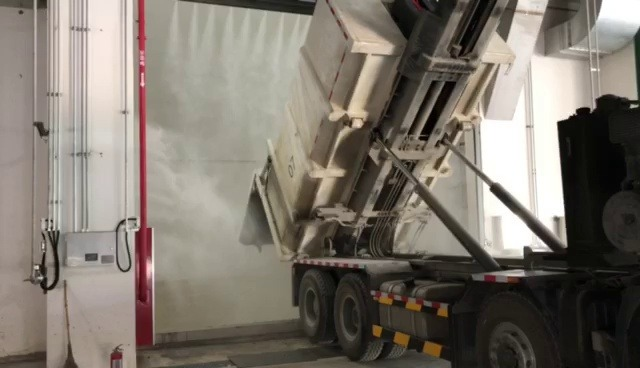dust: (144, 54, 295, 323)
truck: (262, 0, 639, 368)
